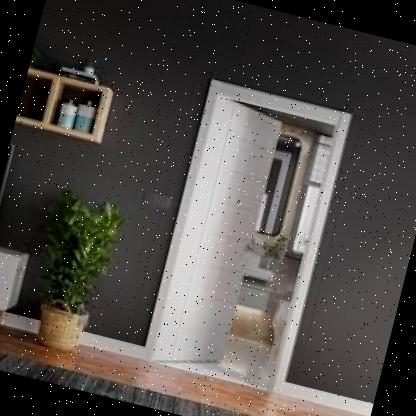door: (134, 69, 364, 409)
